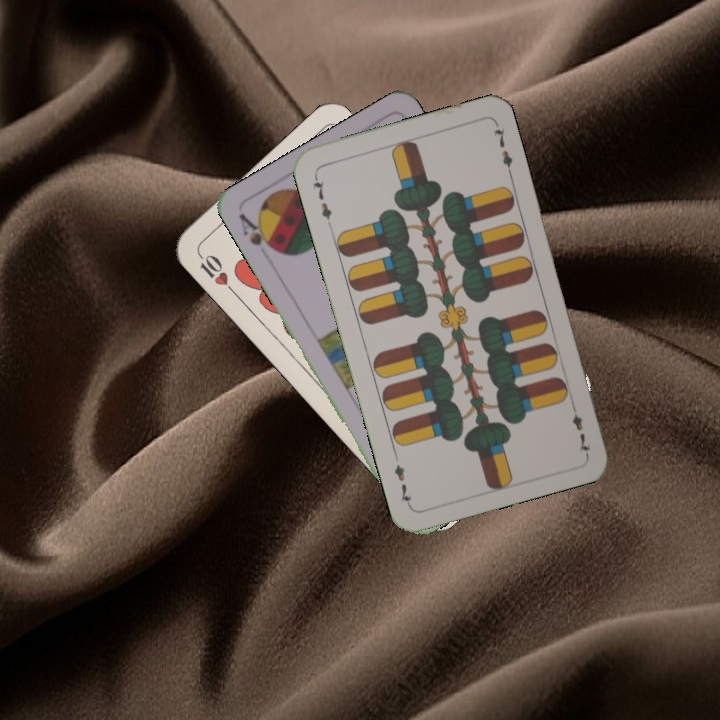E7: (309, 170, 335, 228), (567, 399, 593, 457)
H10: (194, 249, 239, 297)
SA: (234, 209, 281, 256)
